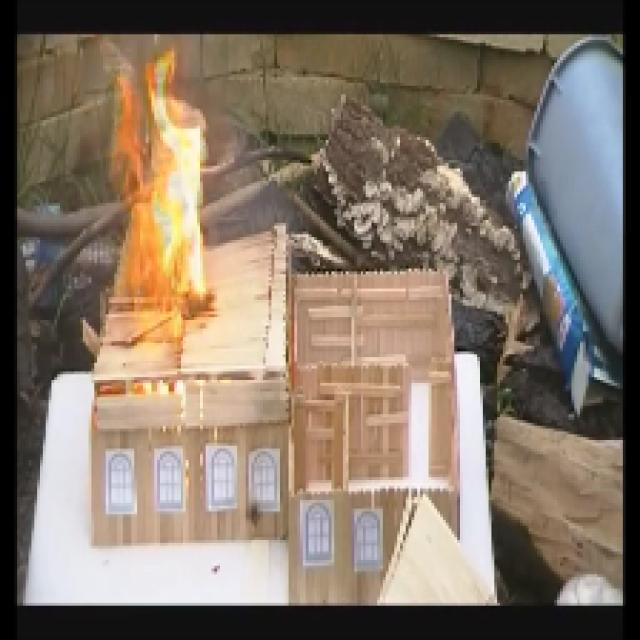fire: (110, 48, 228, 321)
